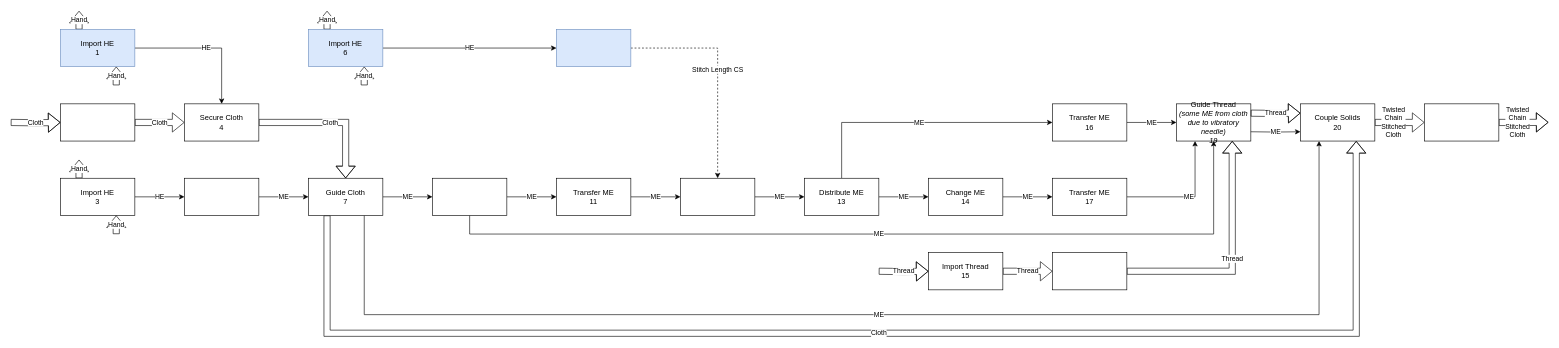
The diagram is 1559 pixels wide and 348 high, and some of its shapes have lost their labels. Each missing label, with the box of its shape:
Convert HE to CS 10: (556, 29, 631, 67)
Convert HE to ME 5: (184, 178, 259, 215)
Distribute ME (Some ME goes to vibratory needle) 9: (432, 178, 507, 215)
Export Solid 21: (1424, 103, 1499, 141)
Import Cloth 2: (60, 103, 135, 141)
Regulate ME 12: (680, 178, 755, 215)
Regulate Thread (appears the bobbin has the same tension system as 16434) 18: (1052, 252, 1127, 290)
